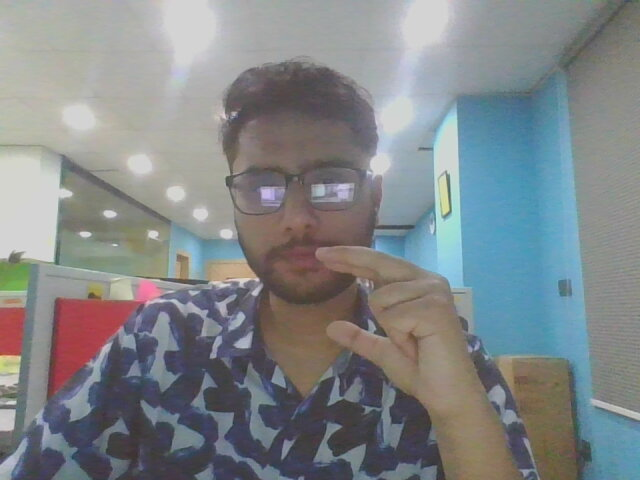no: (306, 240, 493, 408)
